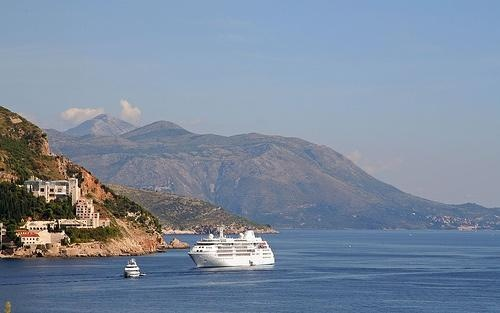boat: (189, 227, 276, 269), (124, 260, 141, 279)
